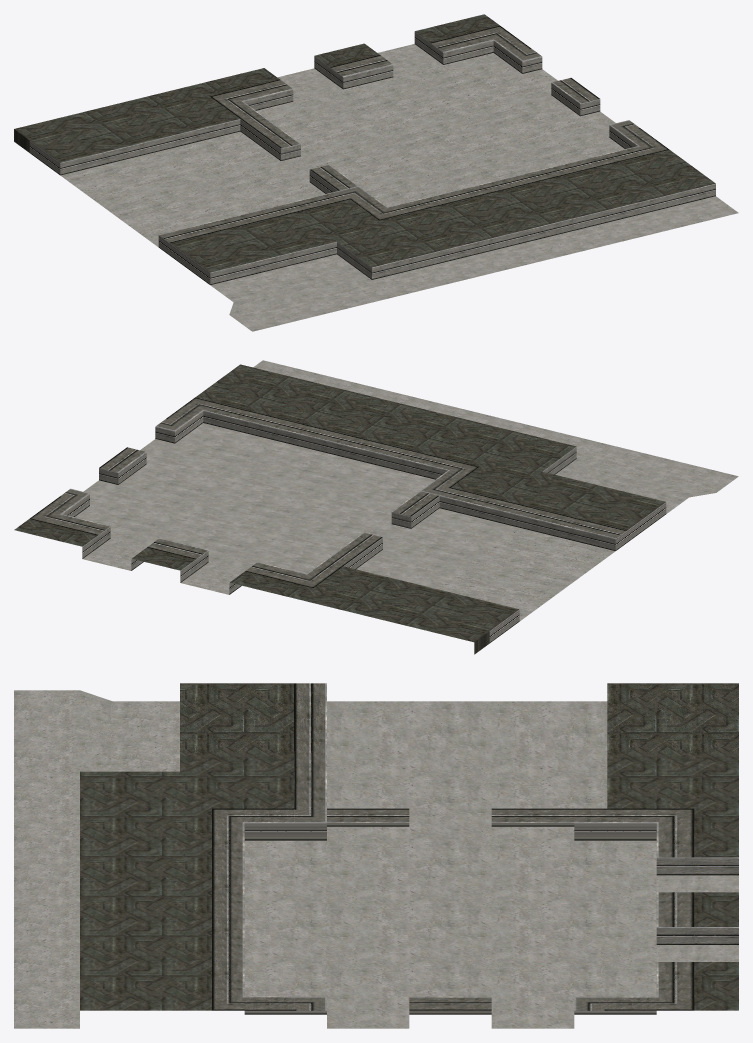
File: DWARF_PALACE_WATER_ROOM_FLOORC.fbx
3 views of the same model, one above another, from view 1: azimuth 30°, elevation 25°; view 2: azimuth 150°, elevation 25°; view 3: azimuth 270°, elevation 25° (orthographic). The views are drawn at different scales.
Visible parts, largest first — view 1: DWARF_PALACE_WATER_ROOM_FLOORC; view 2: DWARF_PALACE_WATER_ROOM_FLOORC; view 3: DWARF_PALACE_WATER_ROOM_FLOORC.
Part boxes in pixels (bbox=[...]): DWARF_PALACE_WATER_ROOM_FLOORC: bbox=[14, 14, 738, 331]; DWARF_PALACE_WATER_ROOM_FLOORC: bbox=[14, 360, 738, 654]; DWARF_PALACE_WATER_ROOM_FLOORC: bbox=[14, 683, 738, 1028].
Bounding box in the file's own units: 242879 × 6024 × 219977.
Materials: 6 (6 with a texture image).
